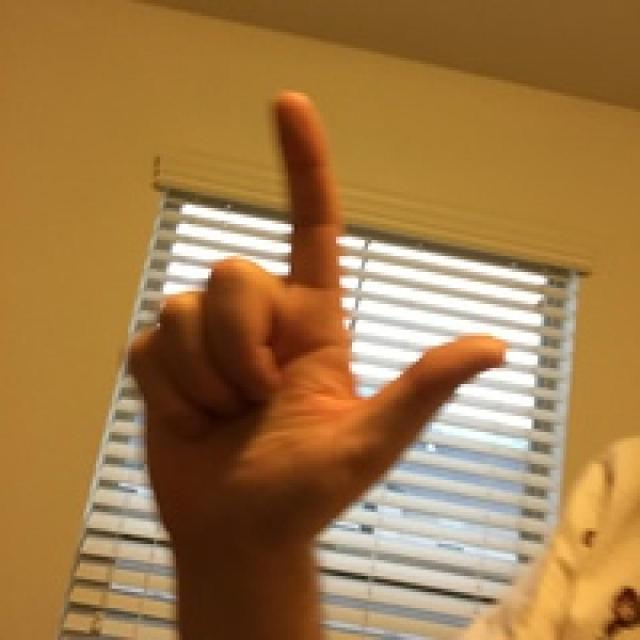L: (90, 54, 529, 608)
